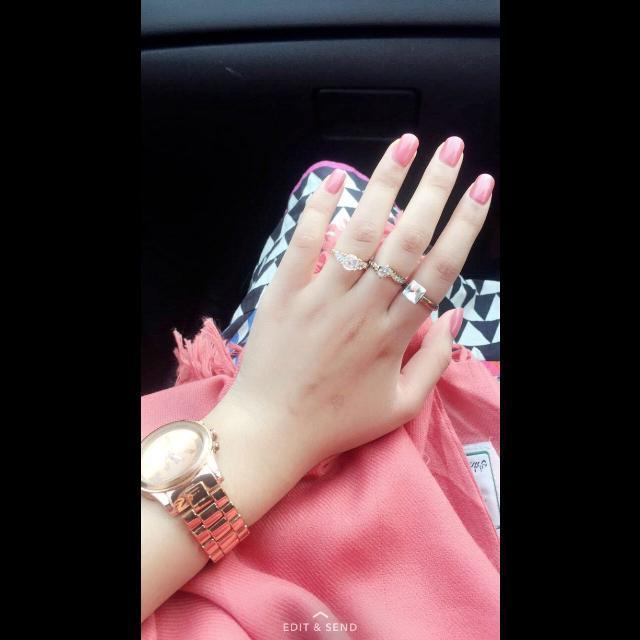bare_hand: (238, 129, 494, 459)
